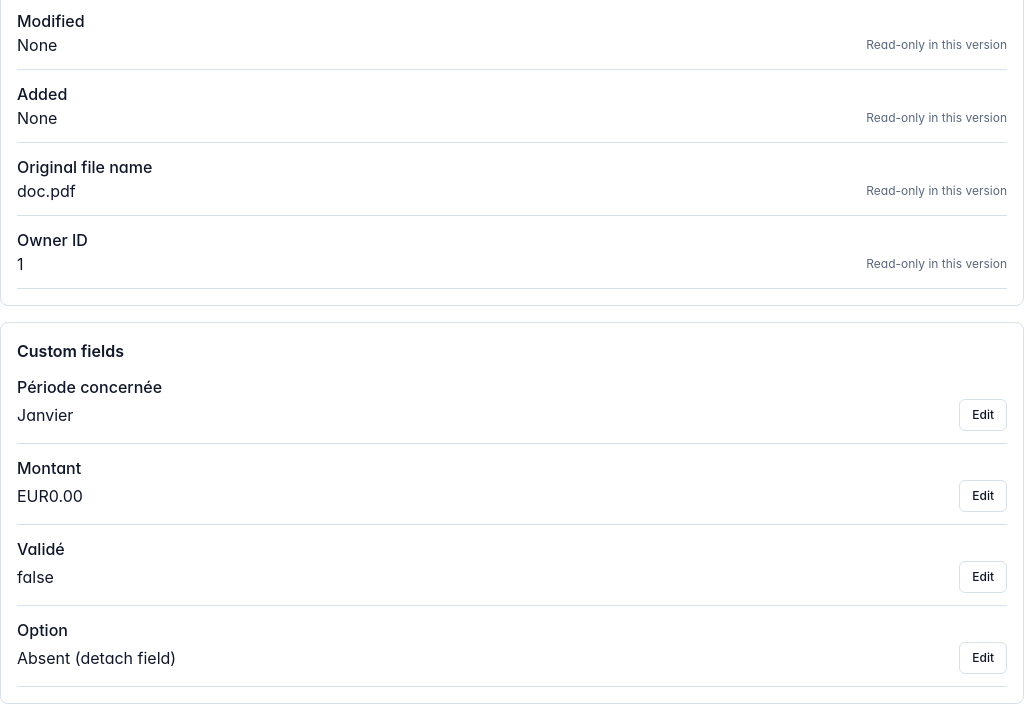
Scenario: Inspector › uses typed controls for Période concernée (, present)
(page scrolled)
Click the button "Edit" in the row of "Janvier" at (983, 415), box 959,399 -> 1007,431
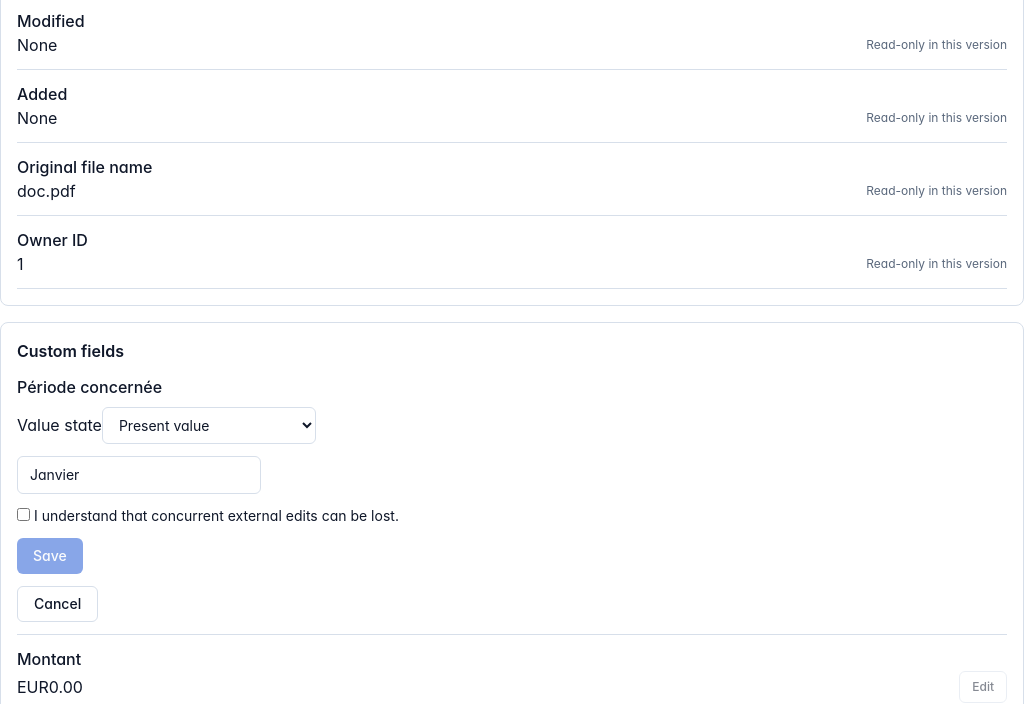
Select "Present value" in the dropdown labelled "Value state" at (209, 426), box 102,407 -> 316,444
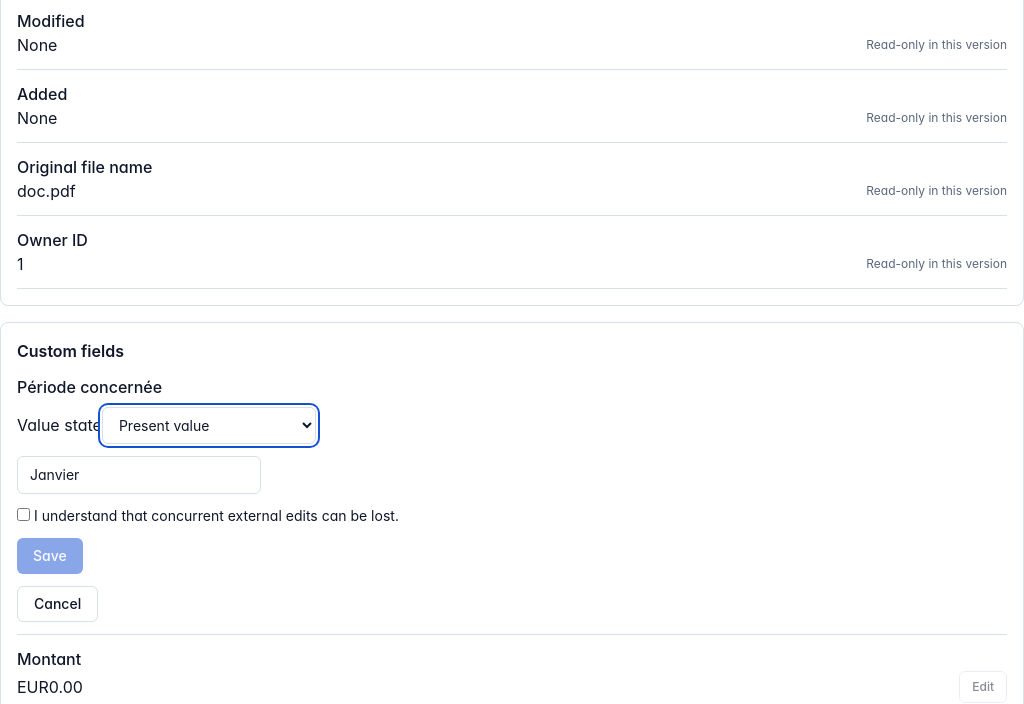
Clear the field named "Période concernée" at (139, 475), box 17,456 -> 261,494
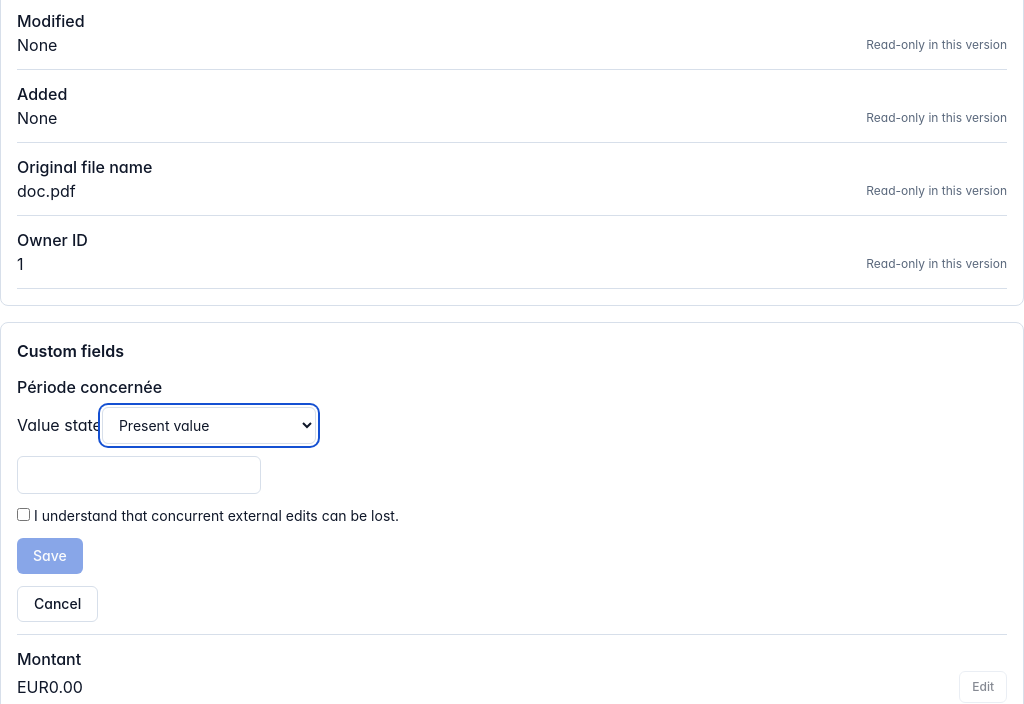
Result: the button "Save" is disabled at 17,538 -> 83,574
Click the checkbox labelled "I understand that concurrent external edits can be lost." at (24, 514), box 17,508 -> 30,521
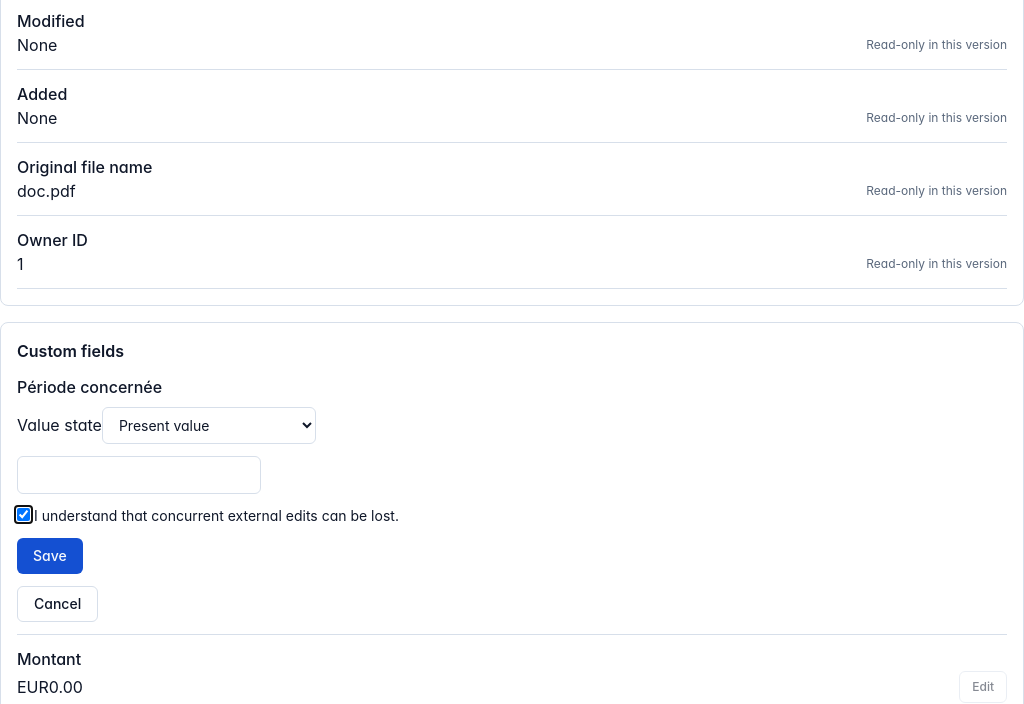
Click the button "Save" at (50, 556), box 17,538 -> 83,574
(page scrolled)
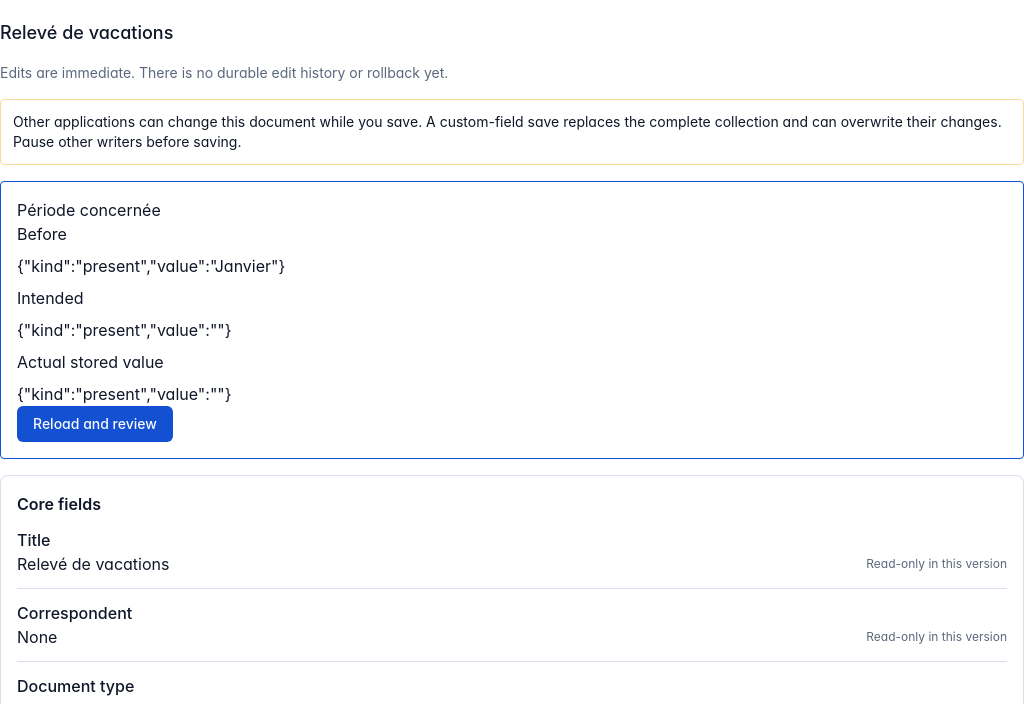
Result: the message is shown at 0,181 -> 1023,459
